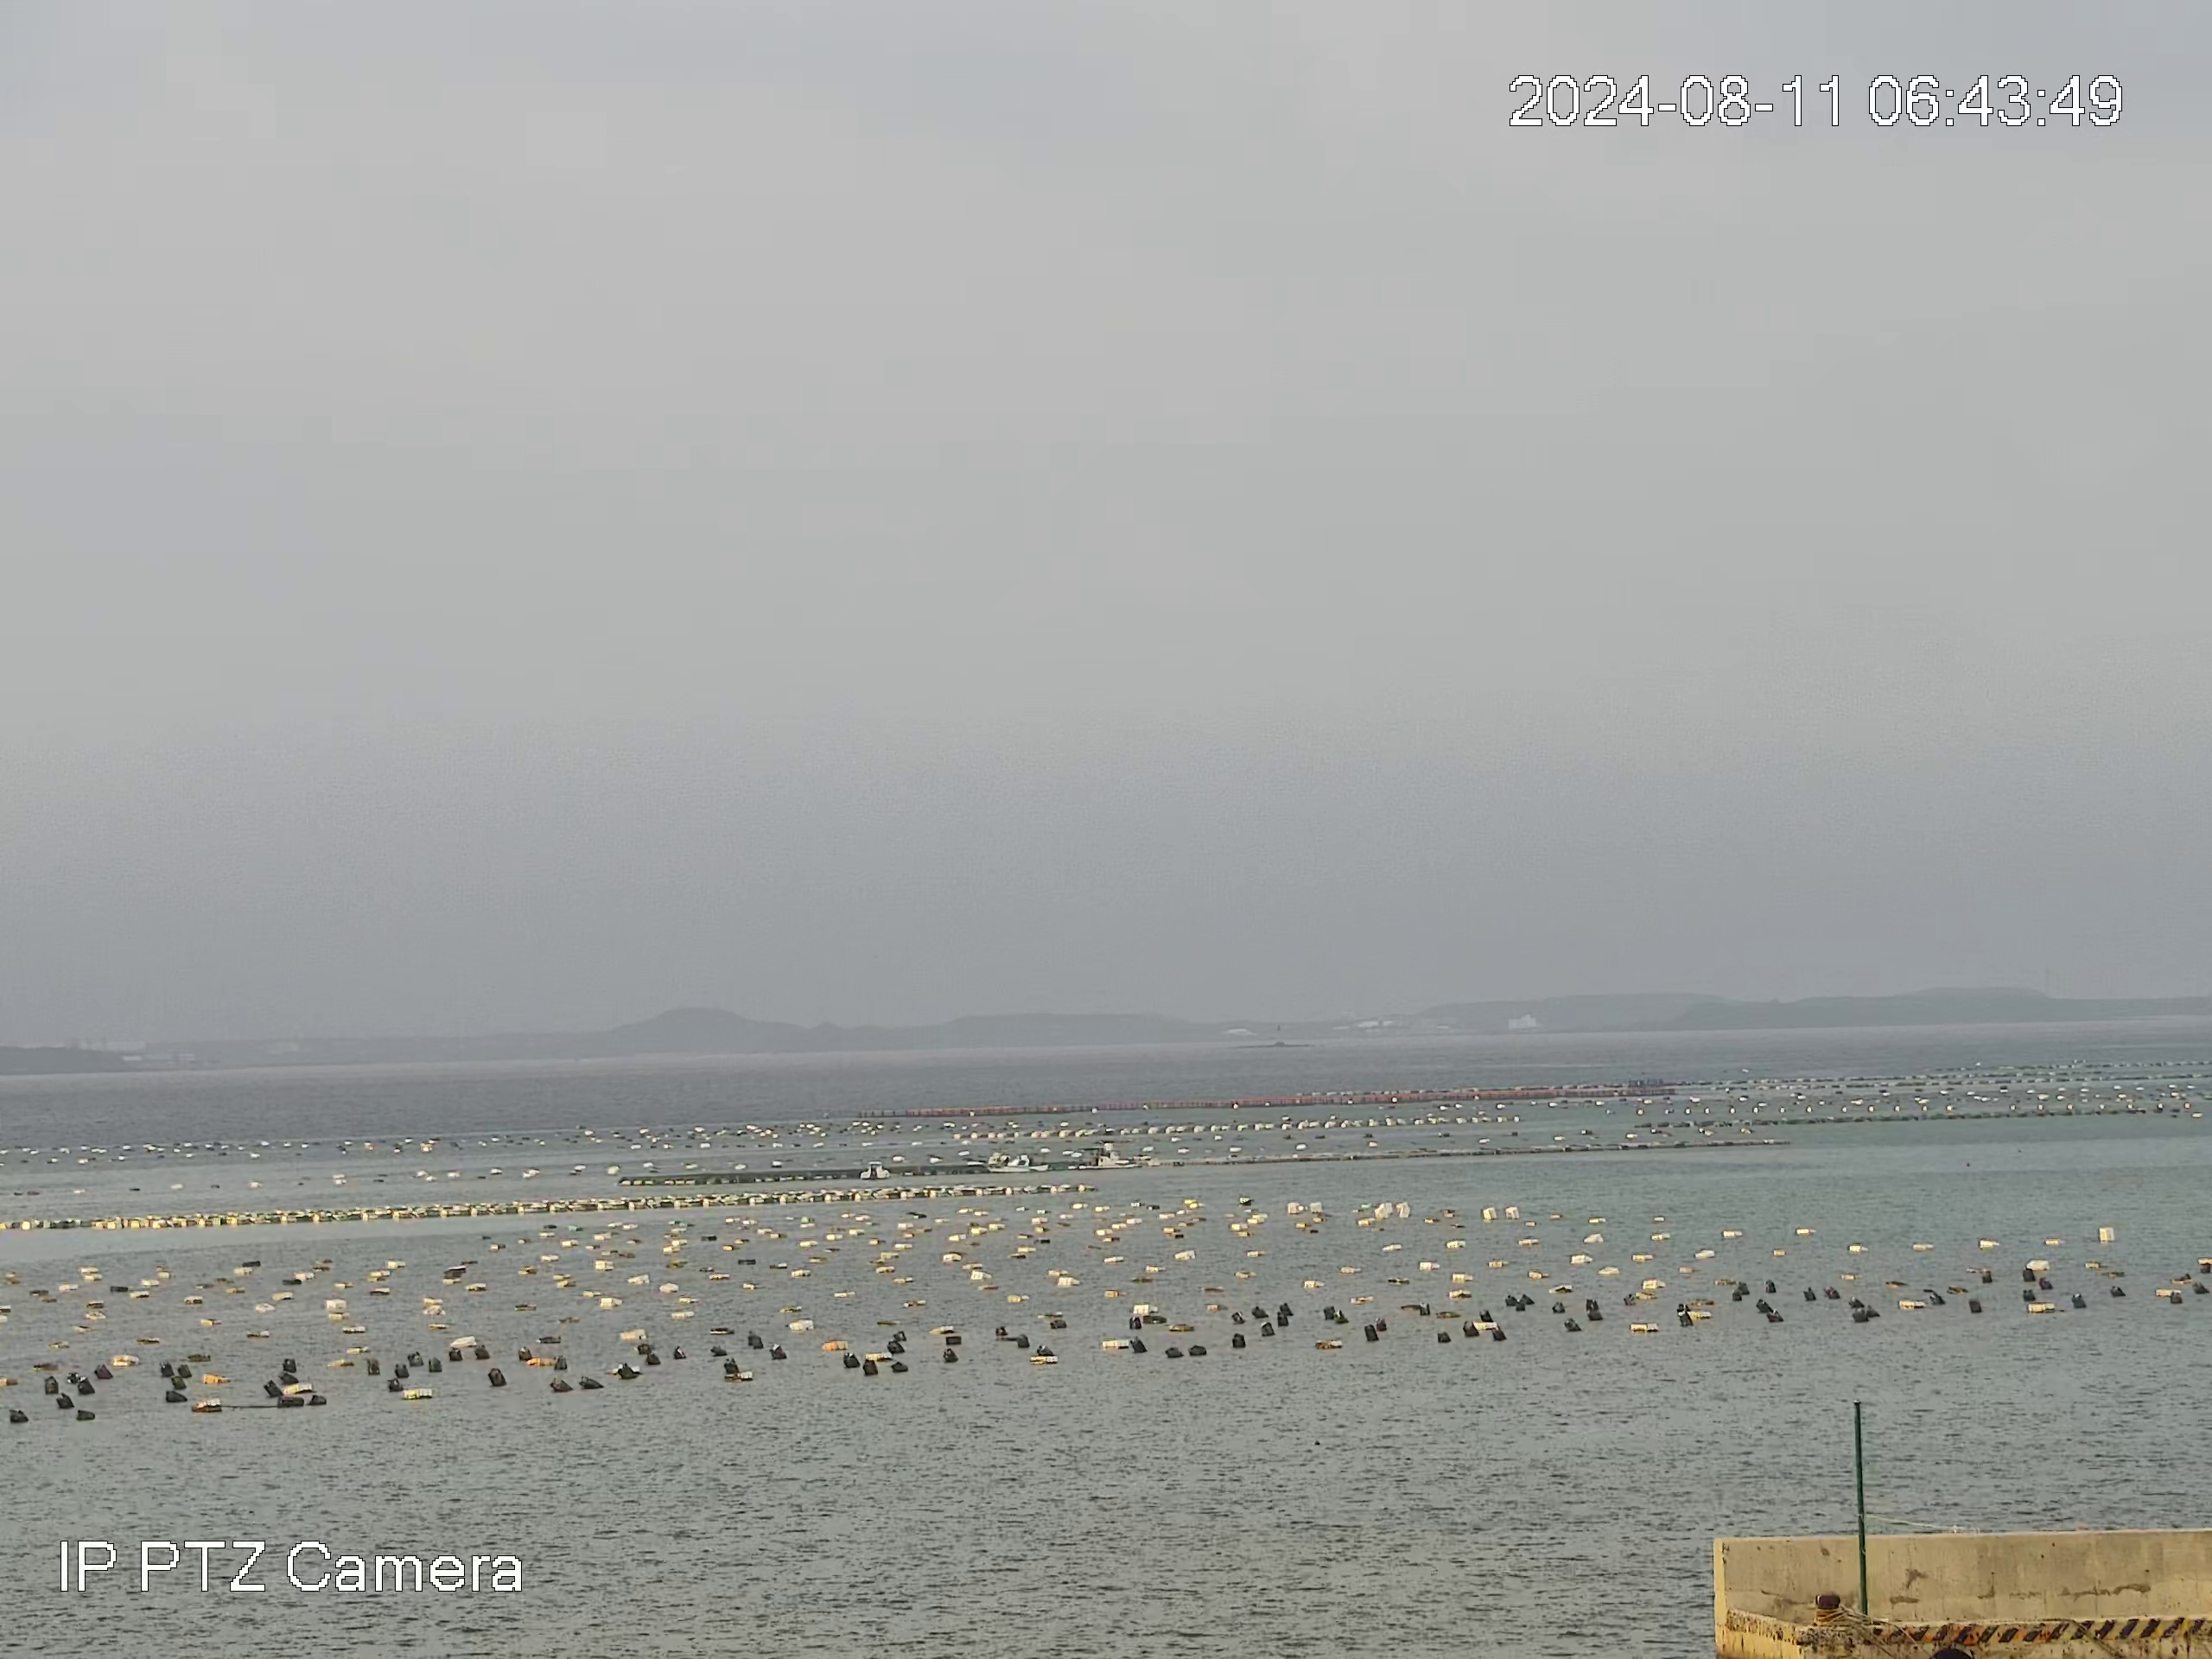boat: (984, 1154, 1050, 1173), (1066, 1154, 1116, 1171)
